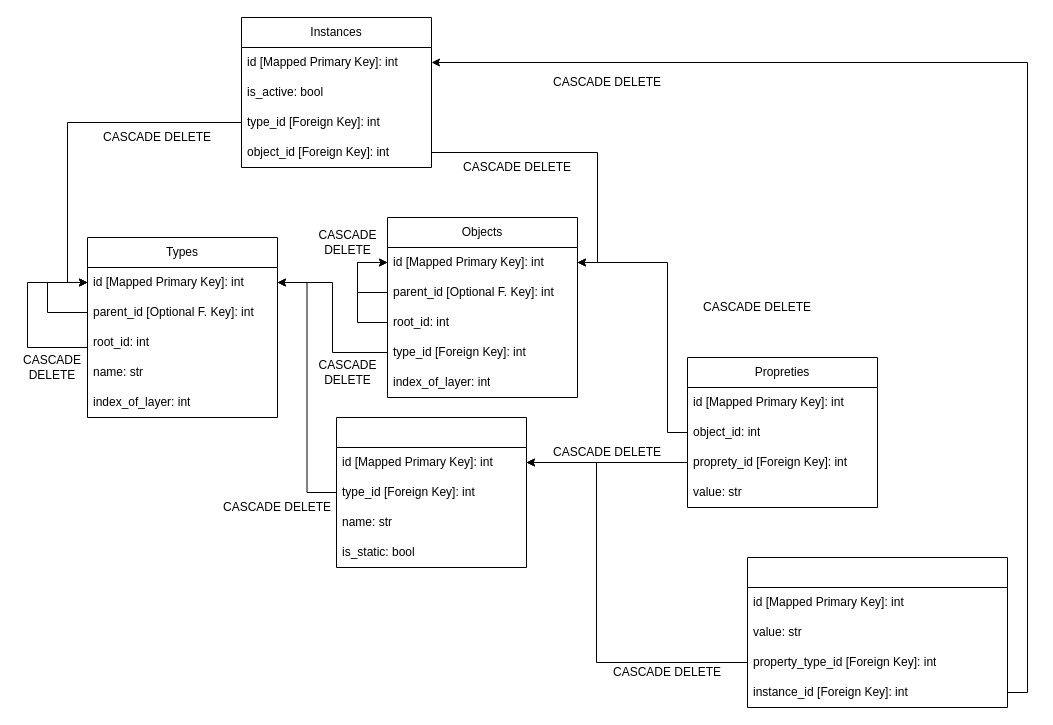
This 1053x725 diagram has some shape labels left out. The box of each missing label's shape, as (x1, y1, x2, y2) in pixels:
Instance Properties: (746, 556, 1008, 708)
Property Types: (336, 416, 526, 568)
